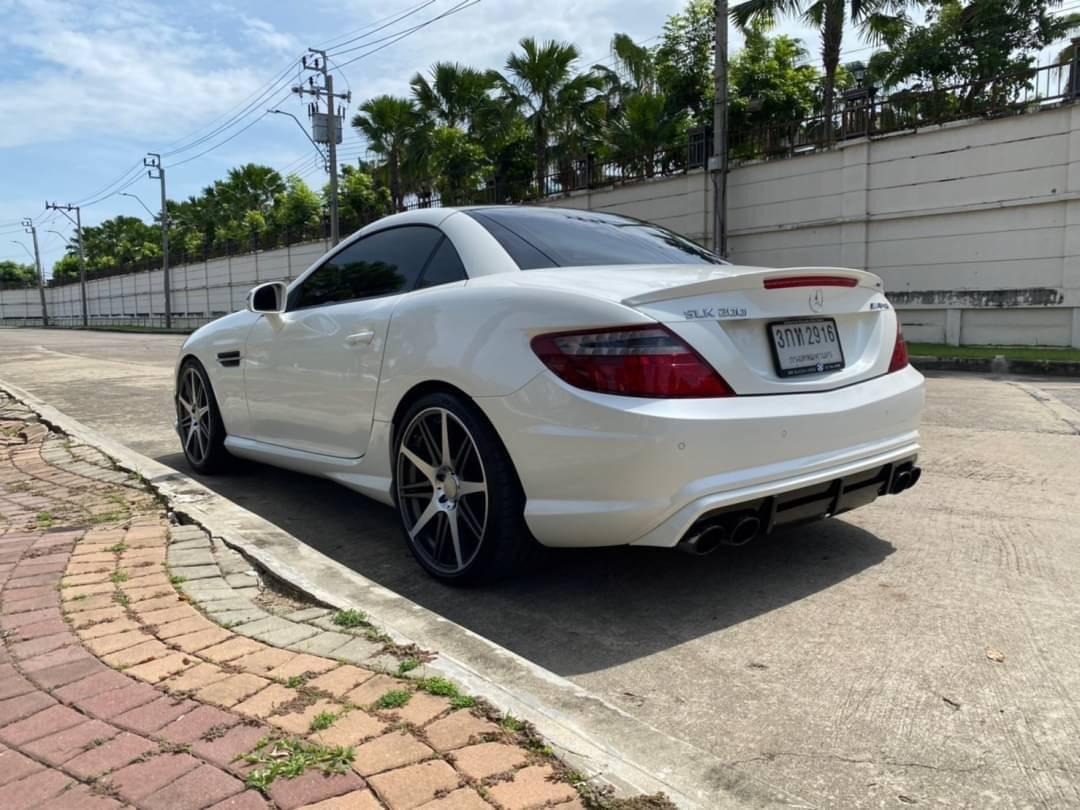license-plate: (761, 315, 848, 382)
